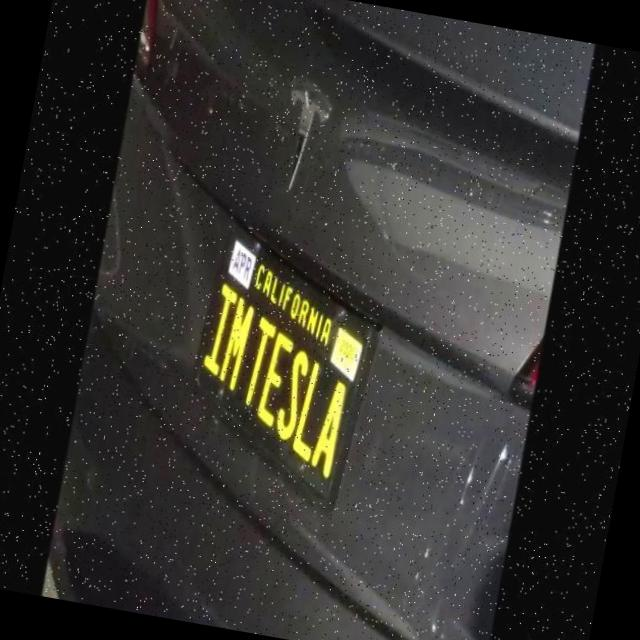LicensePlate: (168, 200, 402, 526)
